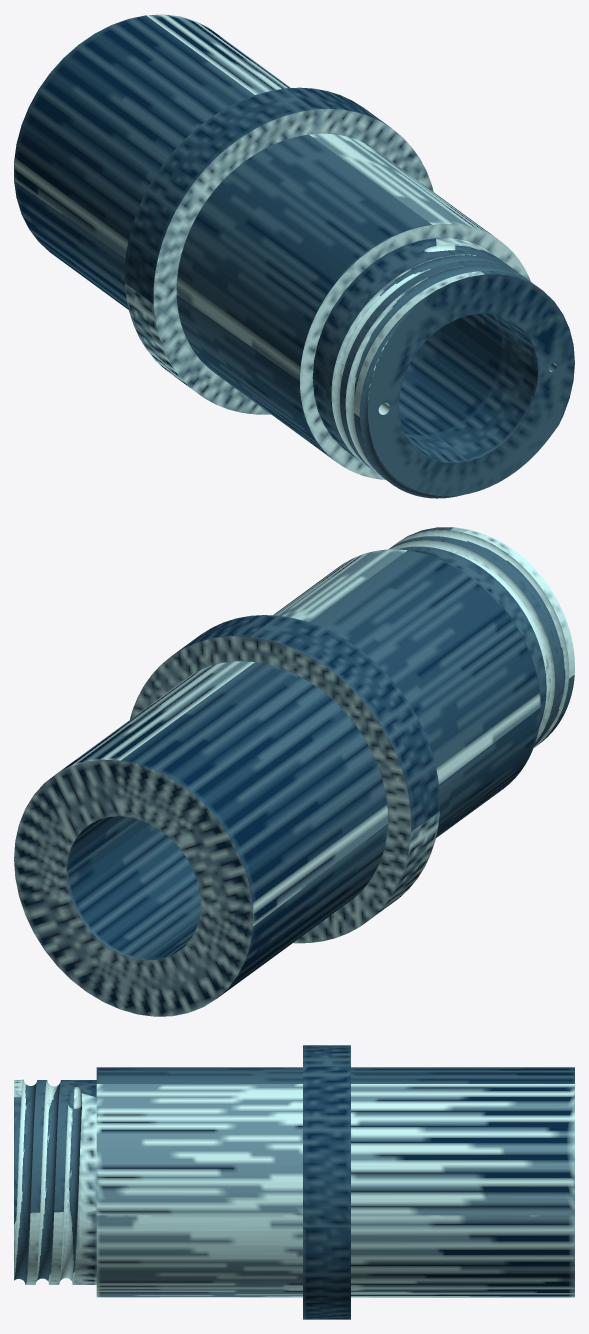
Rendered from Mold4-Shaft-M.glb.
3 renders of one model, top to bottom at view 1: azimuth 30°, elevation 25°; view 2: azimuth 150°, elevation 25°; view 3: azimuth 270°, elevation 25°, orthographic. The views are drawn at different scales.
Parts seen in each view (by area): view 1: GERGTGQ - EREEDF-2; view 2: GERGTGQ - EREEDF-2; view 3: GERGTGQ - EREEDF-2.
Part boxes in pixels (x1,y1,x2,y2): GERGTGQ - EREEDF-2: [14, 14, 574, 498]; GERGTGQ - EREEDF-2: [14, 527, 574, 1016]; GERGTGQ - EREEDF-2: [14, 1045, 574, 1319].
Bounding box in the file's own units: 1.42 × 1.42 × 2.91.
Materials: 1 (1 with a texture image).
